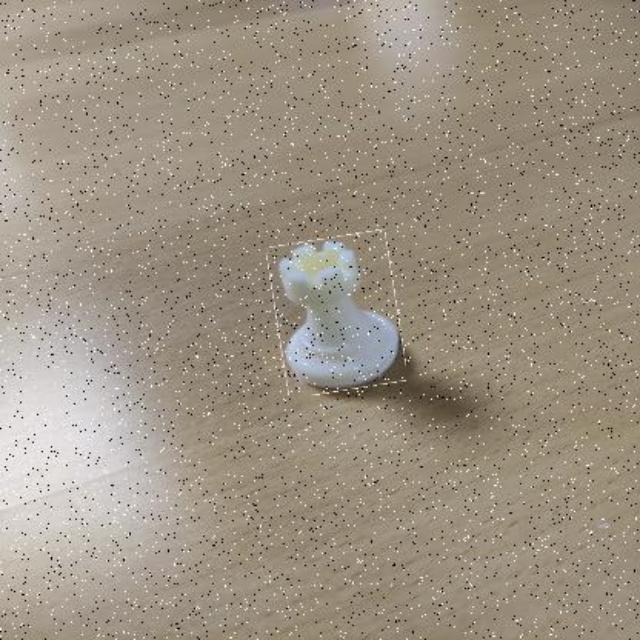white-rook: (272, 233, 402, 393)
